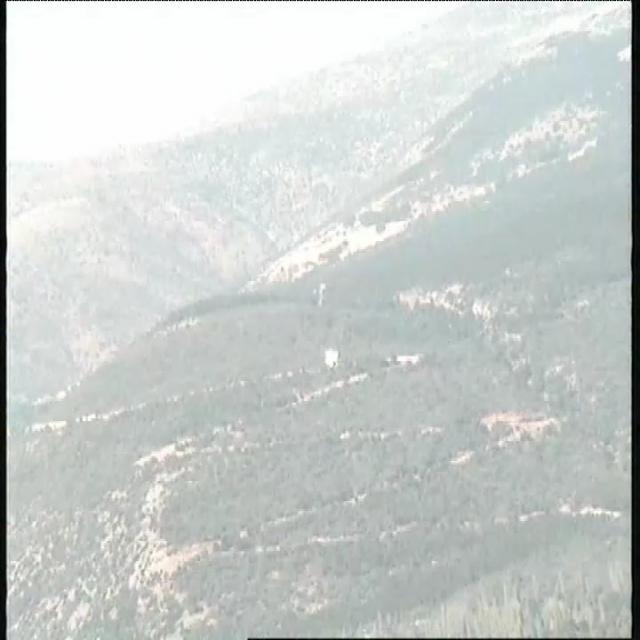smoke: (322, 348, 342, 368)
